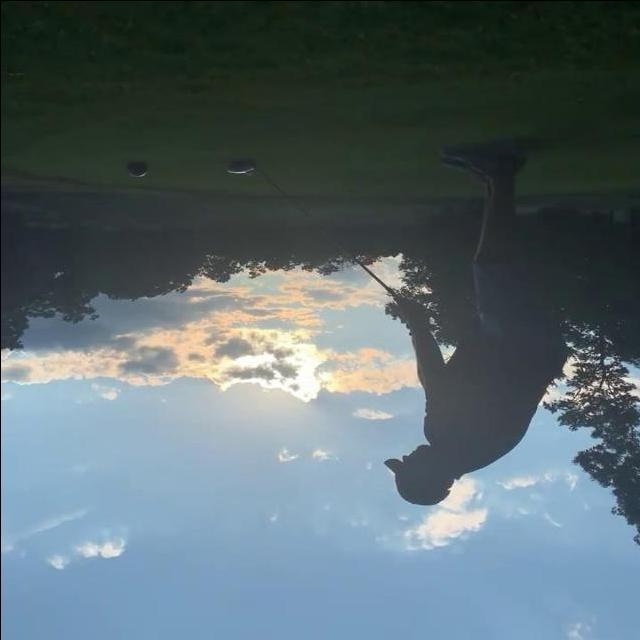golf ball: (245, 172, 252, 174)
golf club-handle: (227, 161, 399, 301)
golf club-head: (226, 161, 253, 172)
